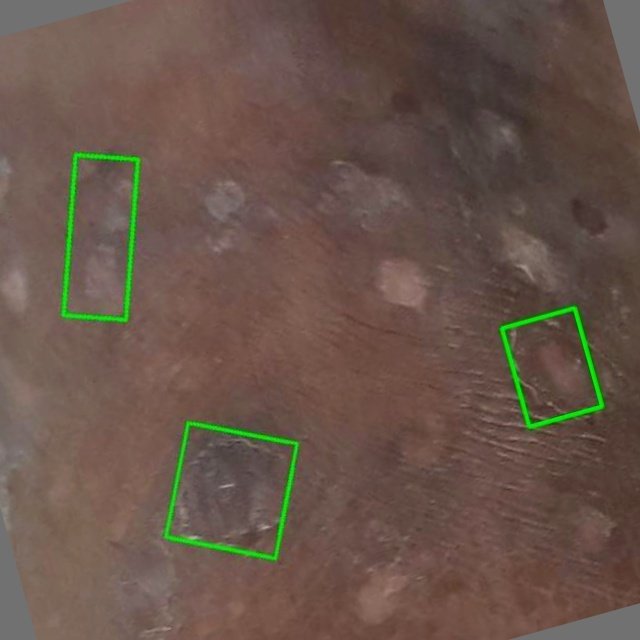Contact Dermatitis: (165, 422, 297, 558), (64, 154, 138, 319), (501, 308, 602, 427)
